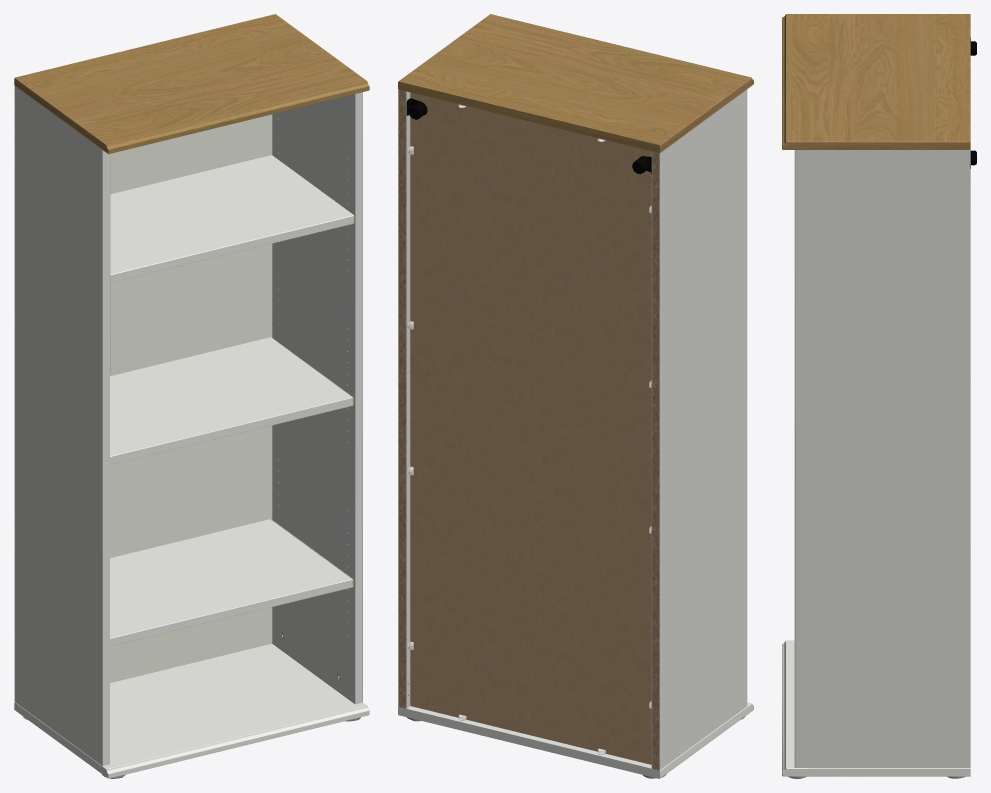
File: SKRUVBY bookcase.glb
The picture shows the model from 3 angles, left to right: view 1: azimuth 30°, elevation 25°; view 2: azimuth 150°, elevation 25°; view 3: azimuth 270°, elevation 25°; orthographic projection.
Visible parts, largest first — view 1: 40503546; view 2: 40503546; view 3: 40503546.
Boxes of the visible parts, bbox=[...] form: 40503546: bbox=[14, 14, 369, 778]; 40503546: bbox=[398, 14, 753, 778]; 40503546: bbox=[782, 14, 976, 778].
Size of the model in its own units: 0.602 by 1.4 by 0.3872.
Materials: 1 (1 with a texture image).
